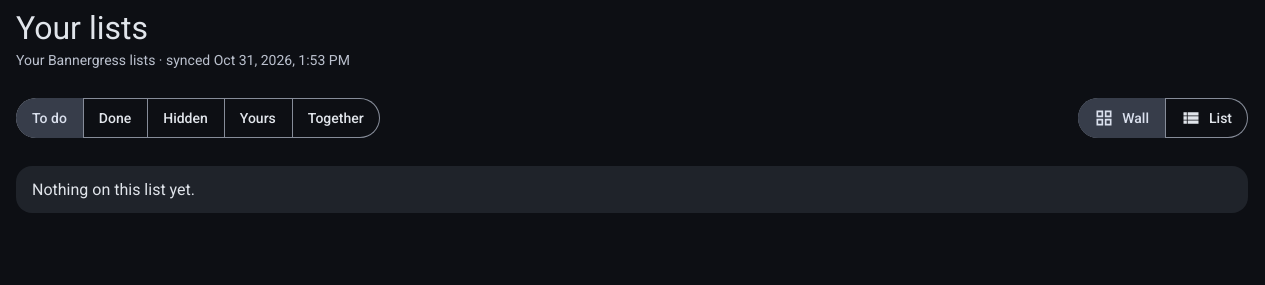
it: Yours lists the banners of the linked agent, newest first
Click the button "Yours".
click(258, 118)  # box 224,98 -> 292,138
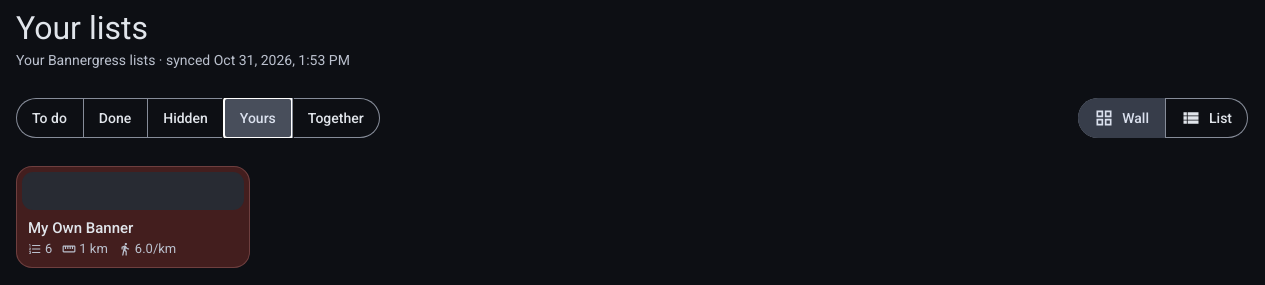
Expected: the text "My Own Banner" is shown, 28,219 -> 133,237
